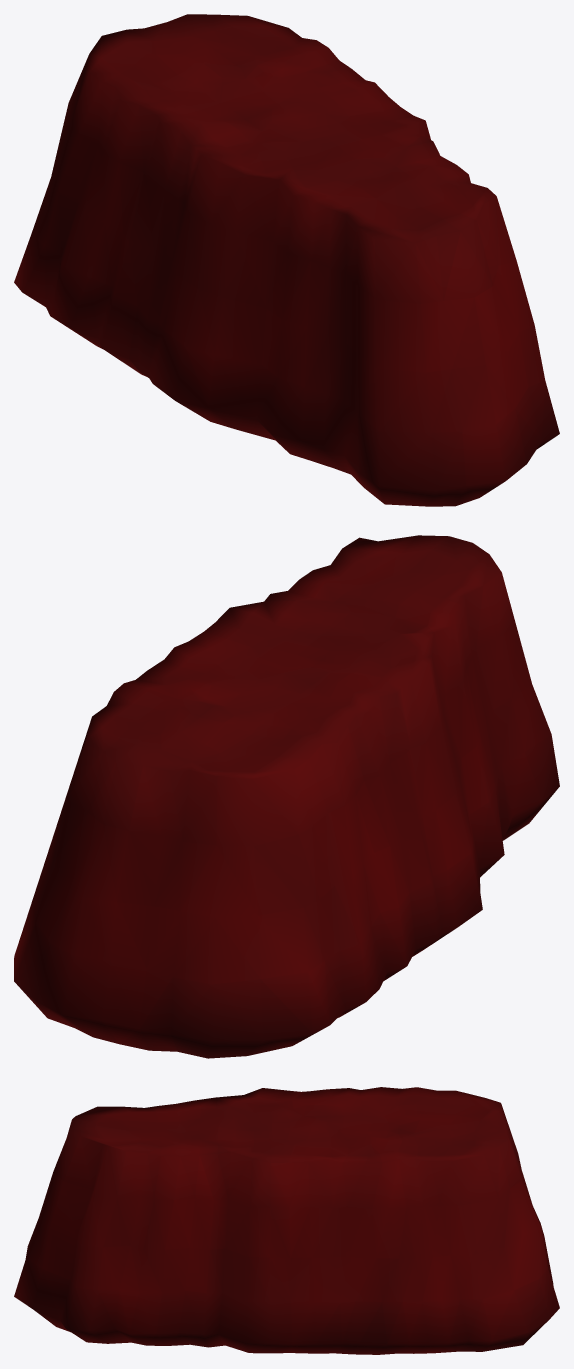
The model's file is geology-landforms-rockplateautiny_v2.fbx.
The picture shows the model from 3 angles, top to bottom: view 1: azimuth 30°, elevation 25°; view 2: azimuth 150°, elevation 25°; view 3: azimuth 270°, elevation 25°; orthographic projection. The views are drawn at different scales.
Visible parts, largest first — view 1: RockPlateauTiny_v2; view 2: RockPlateauTiny_v2; view 3: RockPlateauTiny_v2.
Part boxes in pixels (bbox=[...]): RockPlateauTiny_v2: bbox=[14, 14, 559, 506]; RockPlateauTiny_v2: bbox=[14, 535, 559, 1058]; RockPlateauTiny_v2: bbox=[14, 1087, 559, 1354].
Size of the model in its own units: 27.53 by 22.23 by 57.7.
